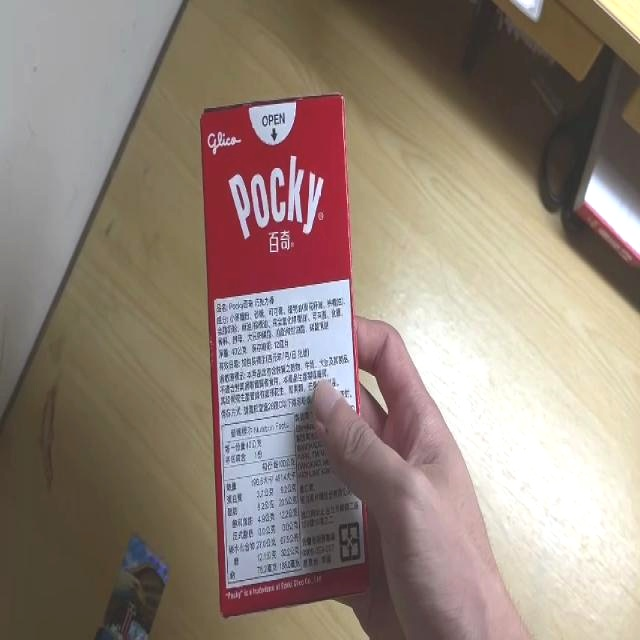Pocky: (200, 94, 377, 617)
